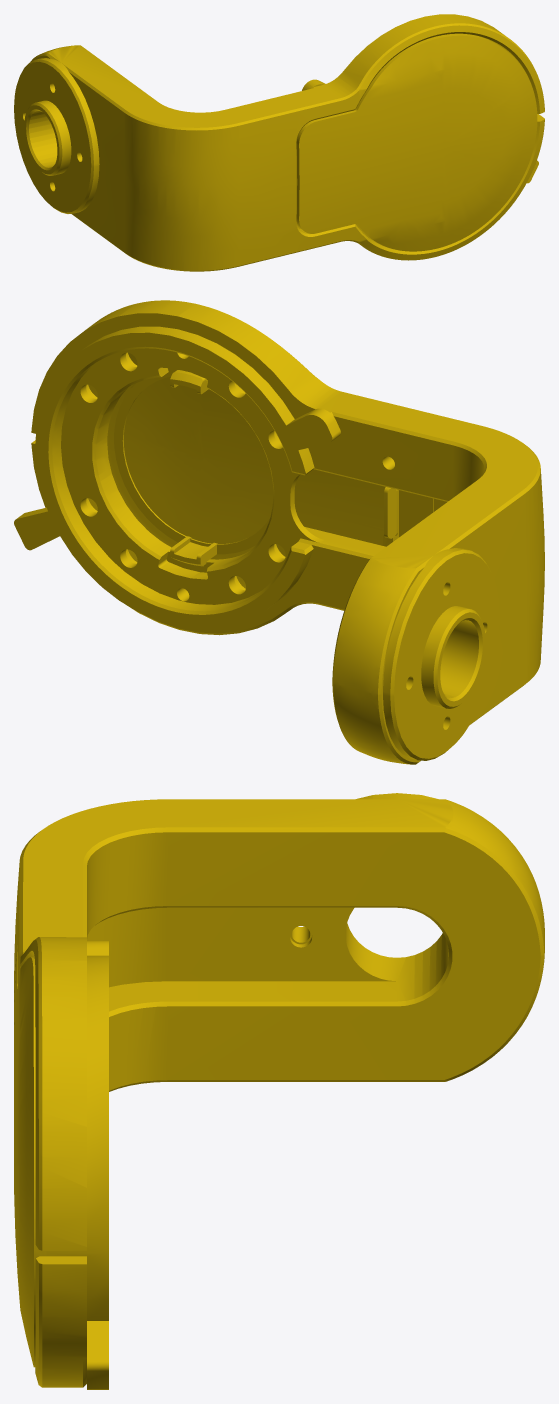
File: arml7.glb
3 renders of one model, top to bottom at view 1: azimuth 30°, elevation 25°; view 2: azimuth 150°, elevation 25°; view 3: azimuth 270°, elevation 25°, orthographic. The views are drawn at different scales.
Visible parts, largest first — view 1: Mesh_0.007; view 2: Mesh_0.007; view 3: Mesh_0.007.
Part boxes in pixels (left/top/right/bottom): Mesh_0.007: left=14, top=14, right=544, bottom=271; Mesh_0.007: left=14, top=300, right=544, bottom=764; Mesh_0.007: left=14, top=793, right=544, bottom=1389.
Bounding box in the file's own units: 0.1133 × 0.061 × 0.0719.
